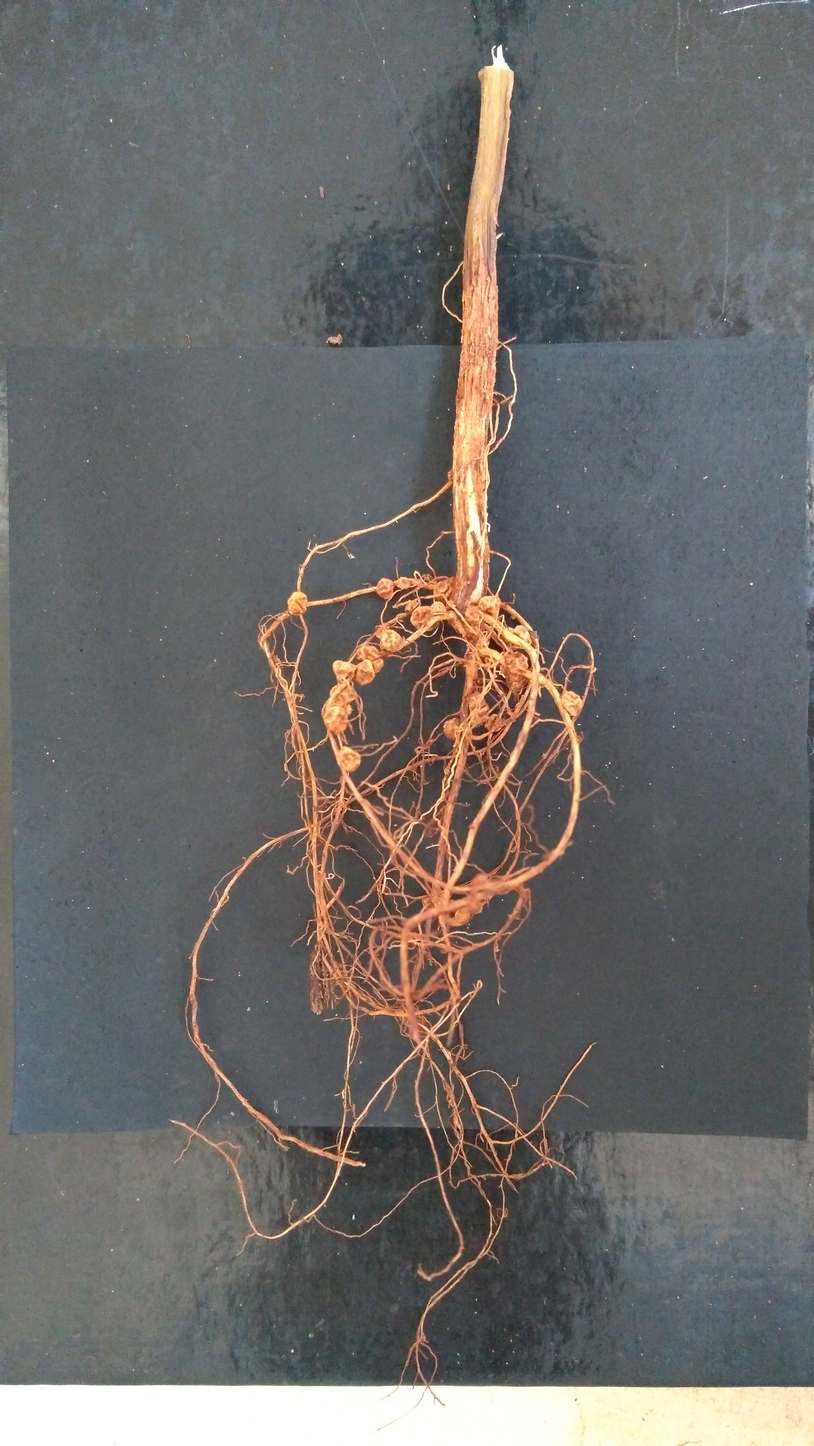nodule: (321, 697, 352, 735), (333, 660, 375, 686), (503, 652, 528, 691), (356, 643, 384, 674), (468, 690, 489, 727), (410, 606, 440, 631), (376, 626, 404, 651), (469, 873, 494, 900), (503, 625, 531, 649), (337, 746, 361, 773), (330, 685, 357, 706), (561, 691, 583, 716), (287, 592, 307, 616), (443, 717, 461, 740), (434, 579, 453, 599), (478, 595, 499, 613), (376, 578, 394, 599), (465, 606, 483, 625), (484, 714, 502, 732), (455, 907, 470, 926), (477, 636, 490, 656), (430, 601, 447, 614), (484, 656, 501, 667), (396, 577, 410, 589), (405, 600, 419, 612), (422, 898, 434, 911), (446, 600, 454, 609), (475, 907, 483, 913)
